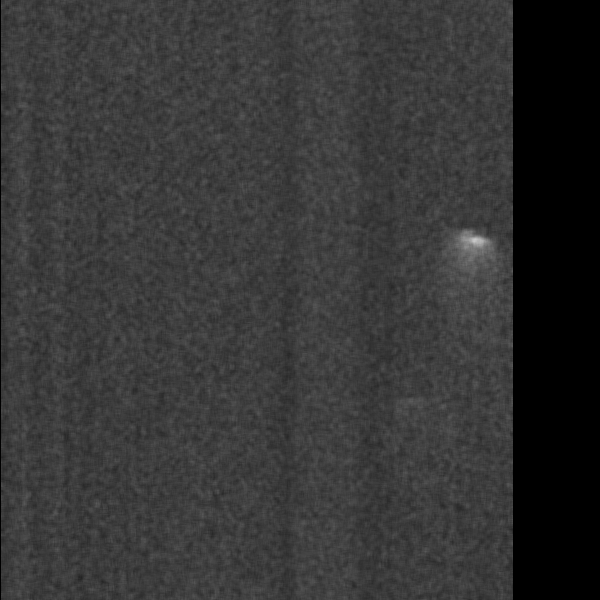spark: (318, 10, 400, 66), (327, 204, 375, 267), (315, 550, 368, 600), (346, 391, 397, 435), (71, 35, 132, 71)
